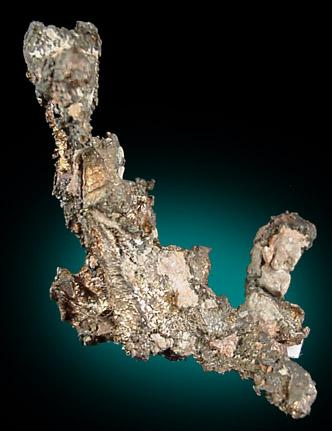silver: (23, 22, 317, 419)
